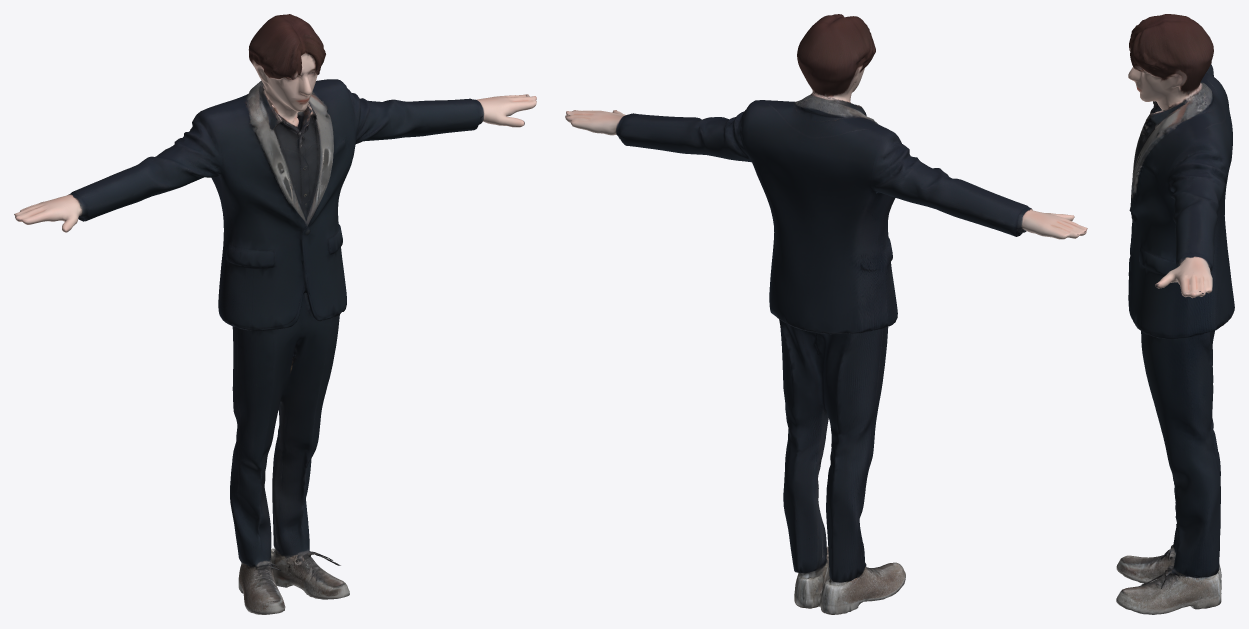
3 renders of one model, left to right at view 1: azimuth 30°, elevation 25°; view 2: azimuth 150°, elevation 25°; view 3: azimuth 270°, elevation 25°, orthographic.
Bounding box in the file's own units: 1.9 × 2 × 0.3712.
Materials: 1 (1 with a texture image).
